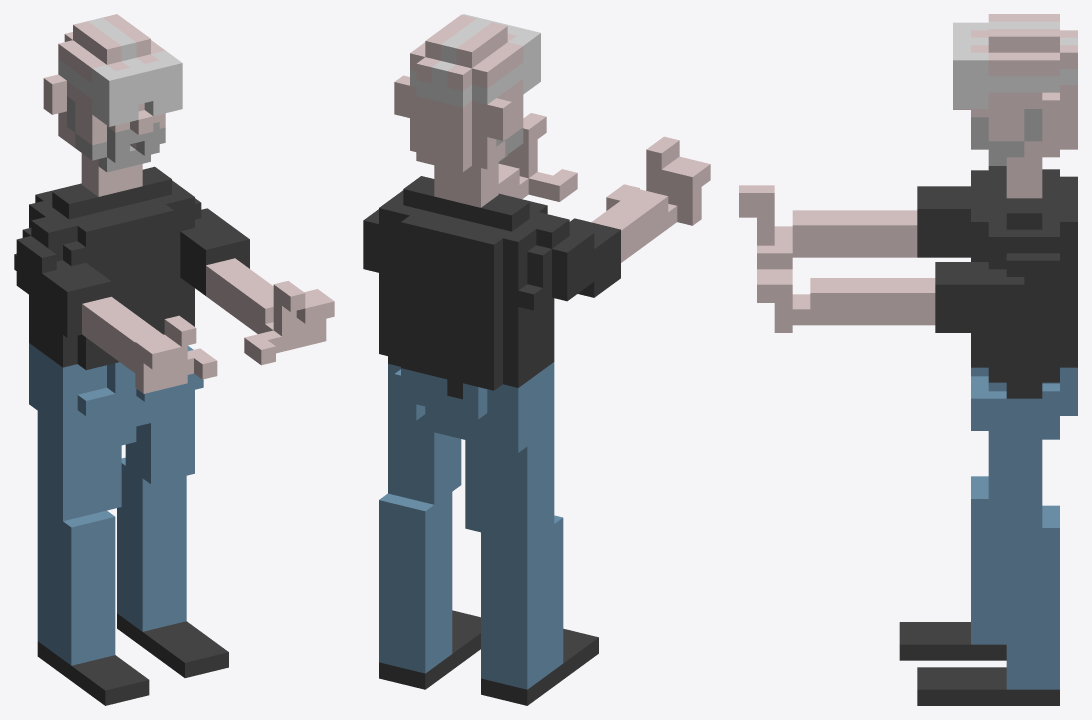
File: middle_aged_man_in_vr.glb
The picture shows the model from 3 angles, left to right: view 1: azimuth 30°, elevation 25°; view 2: azimuth 150°, elevation 25°; view 3: azimuth 270°, elevation 25°; orthographic projection. The views are drawn at different scales.
Parts seen in each view (by area): view 1: VoxTransform; view 2: VoxTransform; view 3: VoxTransform.
Part boxes in pixels (<box>): VoxTransform: <box>14,14,334,705</box>; VoxTransform: <box>363,14,710,705</box>; VoxTransform: <box>739,14,1077,705</box>.
Size of the model in its own units: 13 by 40 by 19.
